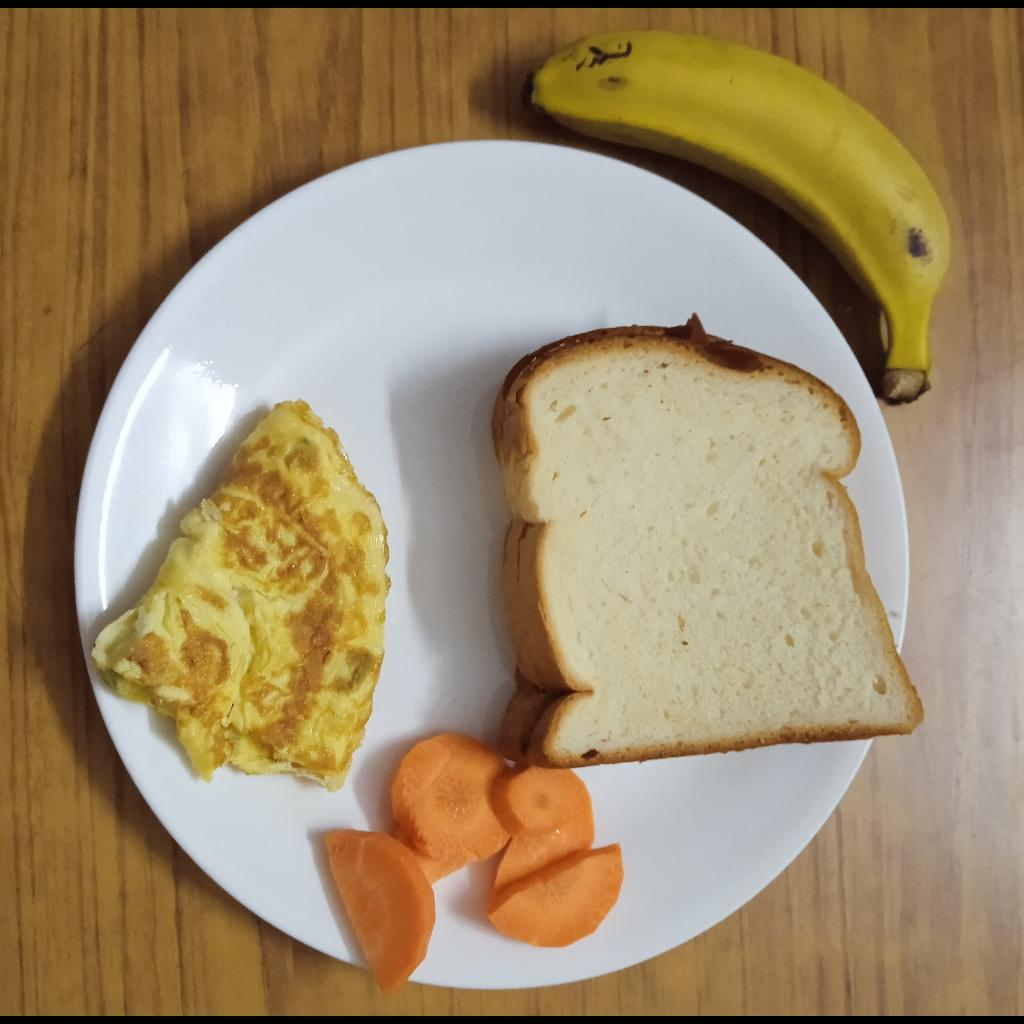banana: (523, 28, 951, 405)
bread: (489, 313, 928, 770)
carrot: (322, 734, 625, 998)
egg-poached: (91, 401, 389, 795)
